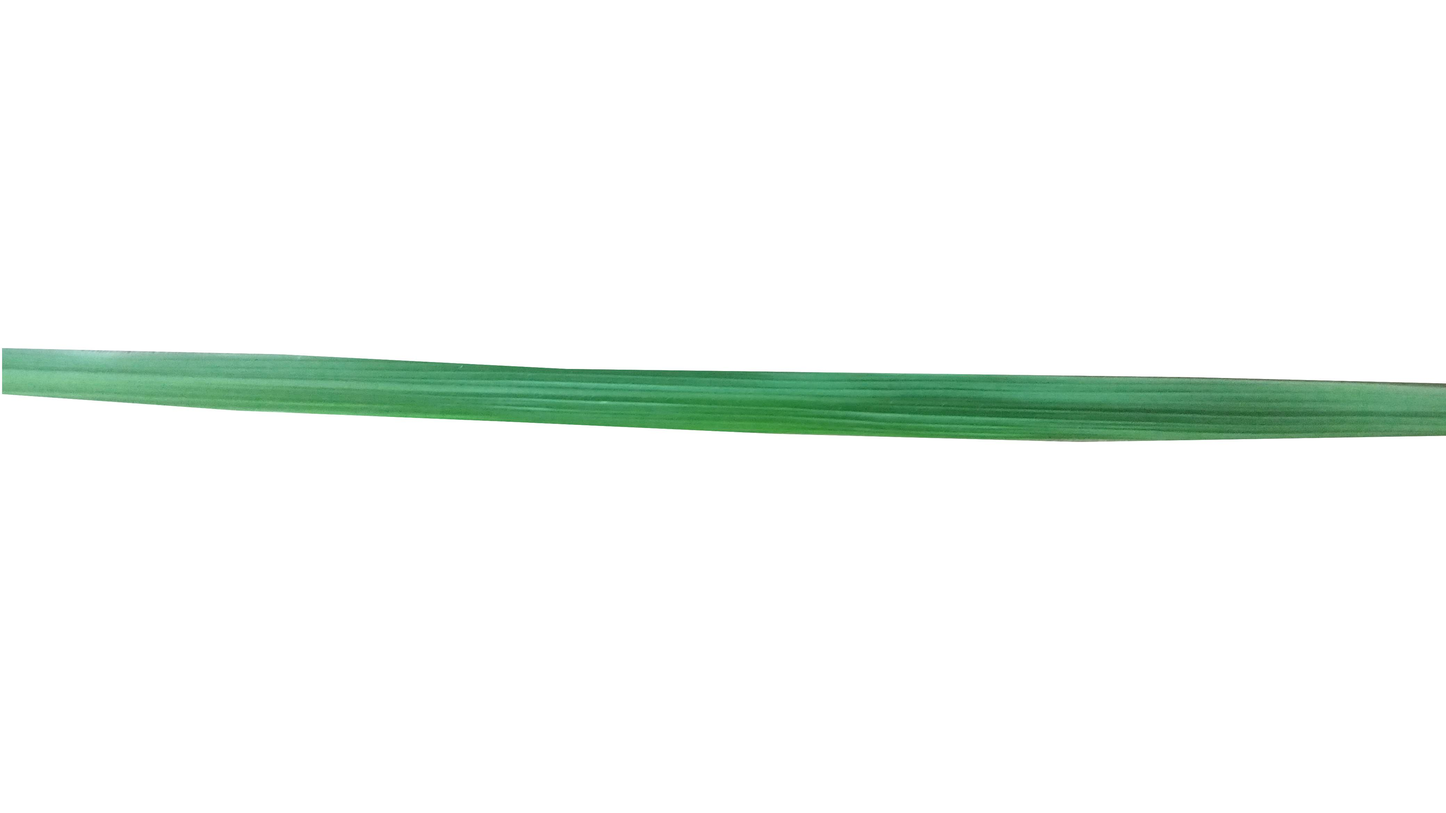Healthy: (0, 348, 1446, 445)
